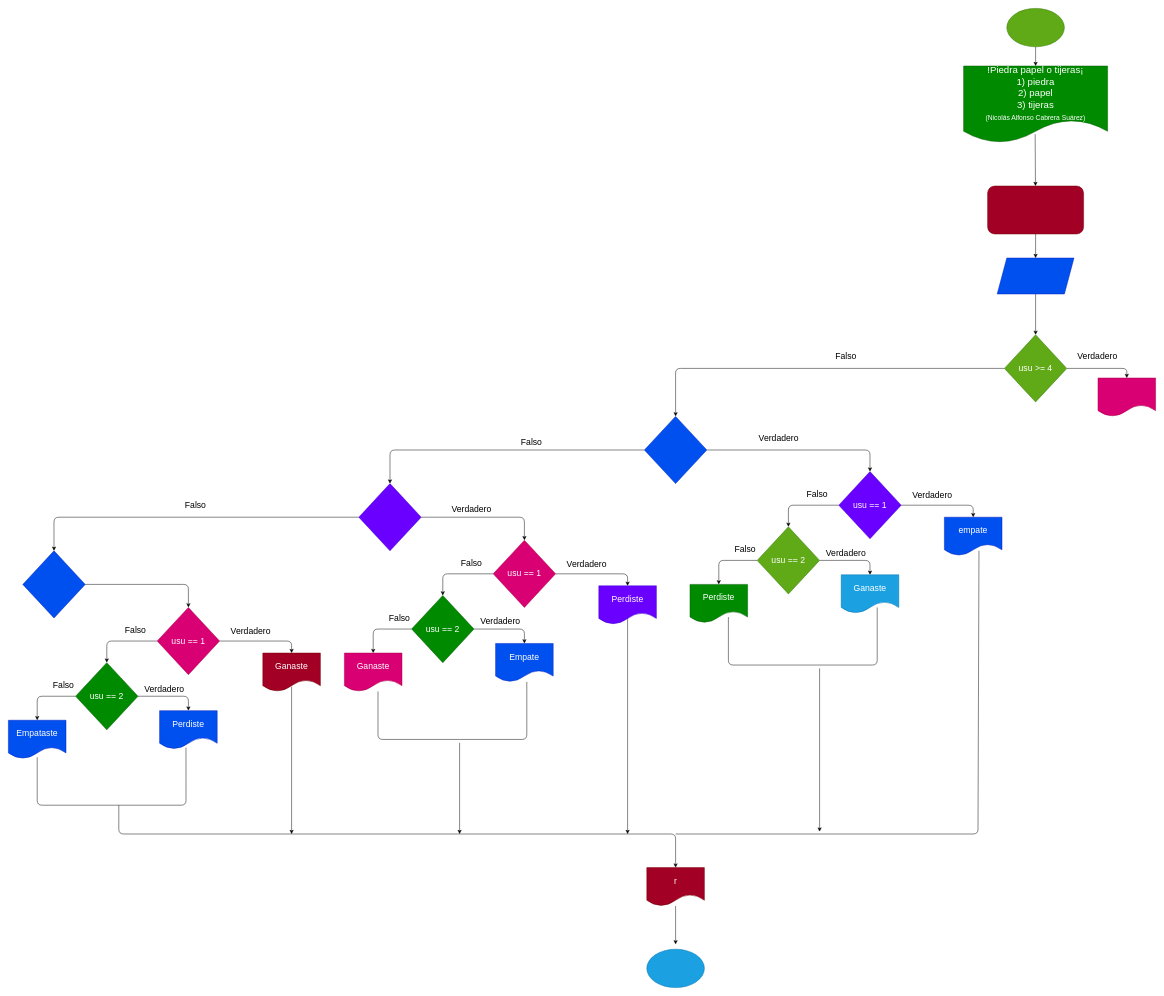
The diagram is 1164 pixels wide and 996 high, and some of its shapes have lost their labels. Here are the shapes that lost their labels. From the top down, the centre of each, then its label:
At [1035,27]: "INICIO".
At [1035,210]: "maq = random.randint (1,3)".
At [1035,276]: "usu".
At [1127,397]: "No valido".
At [675,450]: "maq == 1".
At [389,517]: "maq == 2".
At [53,584]: "maq == 3".
At [675,968]: "FIN".
